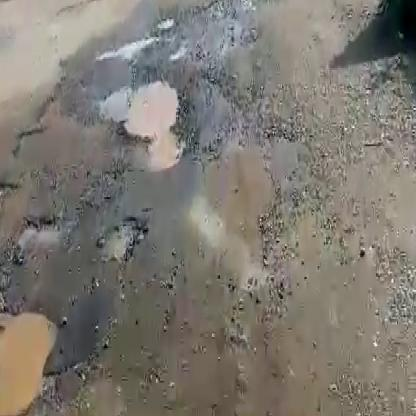pothole: (99, 78, 185, 172), (0, 284, 57, 416), (96, 213, 150, 268), (0, 178, 19, 223)
